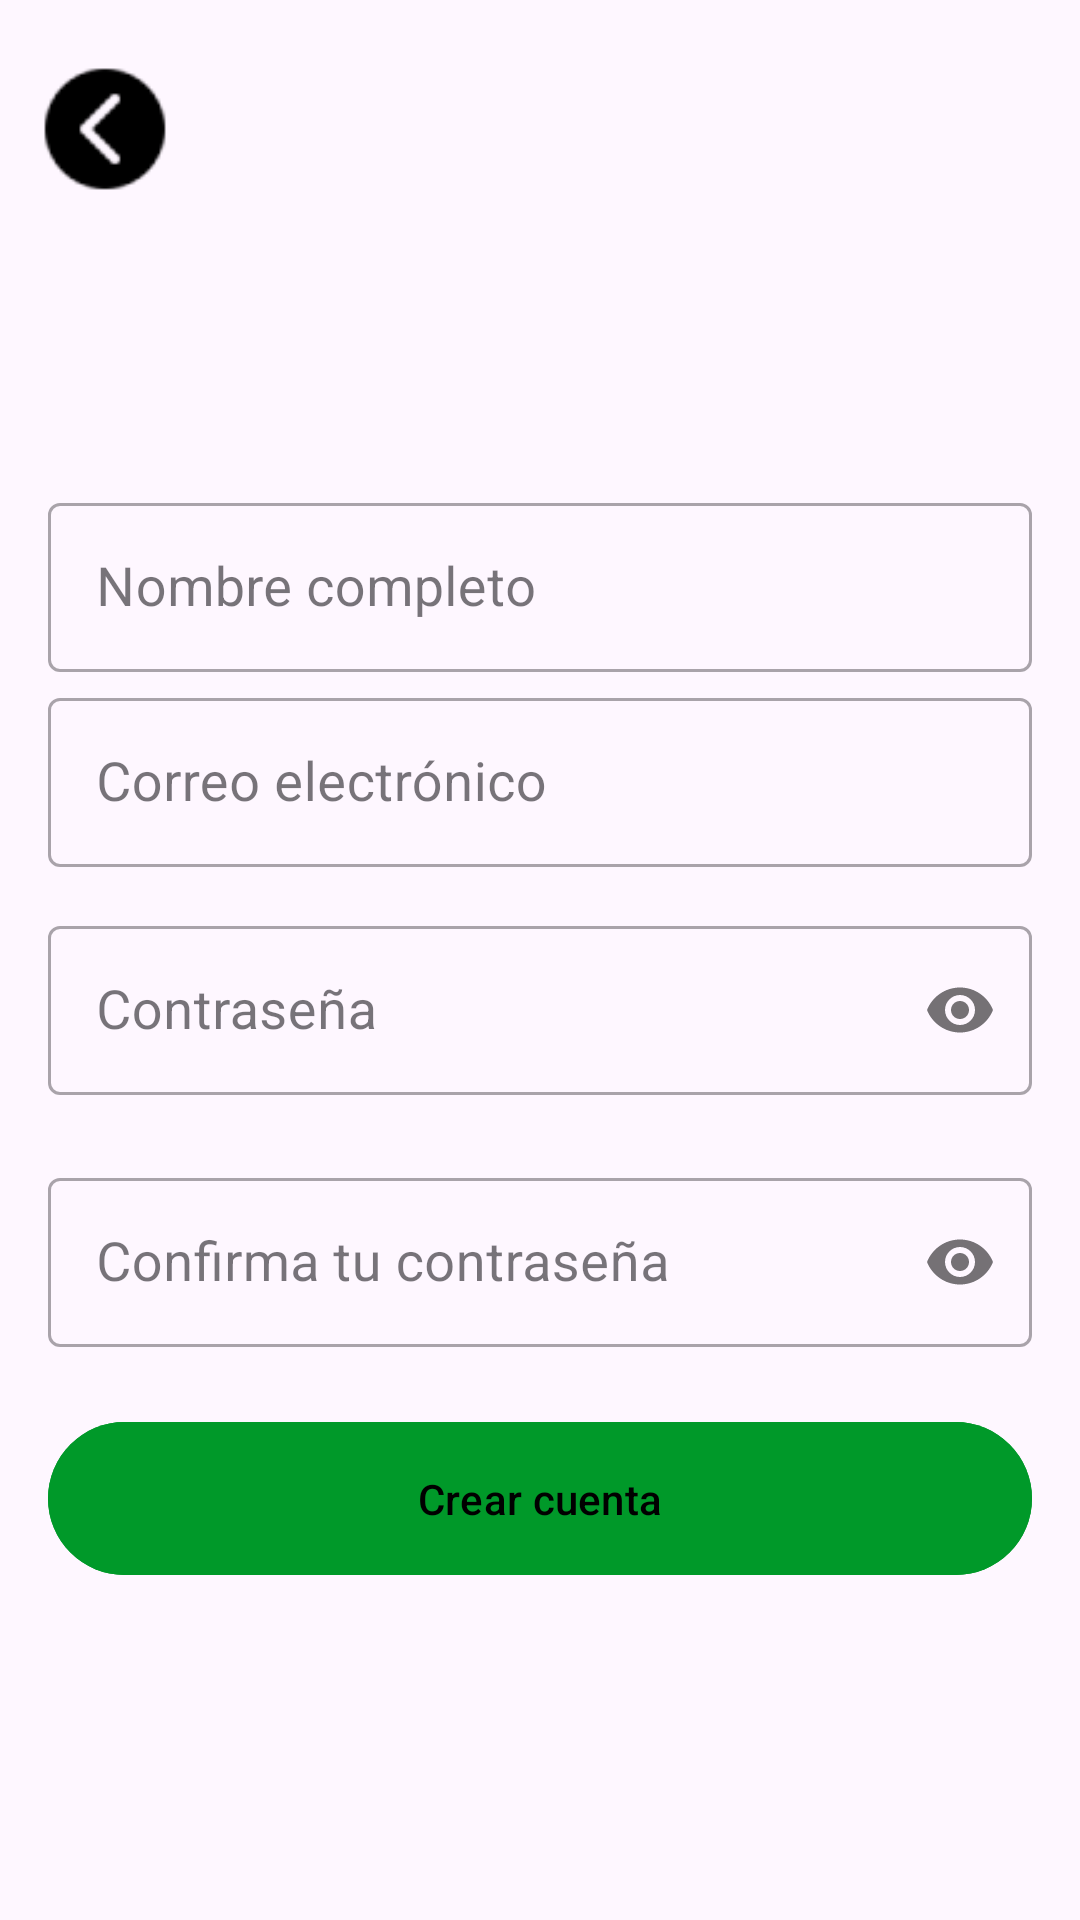

Screen size 1080×1920. Icon name, then its center in pixels as [x,y]:
flecha atras: [105,129]
